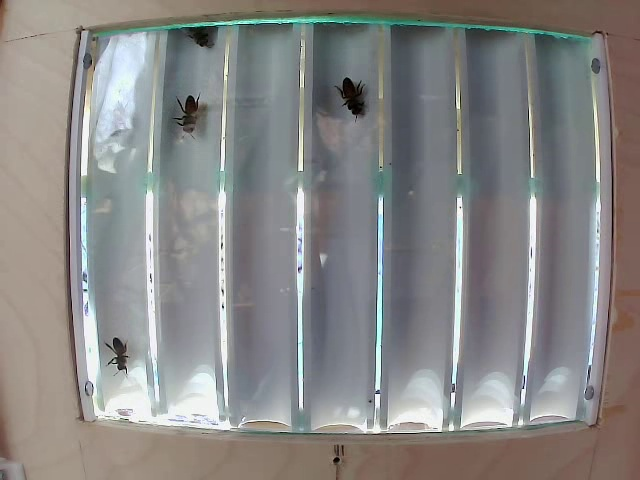bee: (166, 90, 209, 146), (98, 321, 141, 374), (180, 17, 226, 58), (334, 80, 377, 120)
